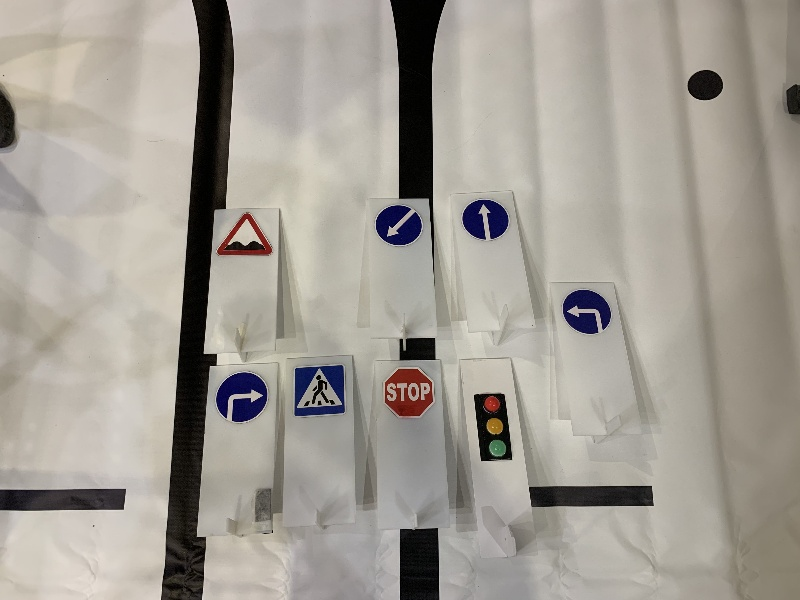Left: (563, 287, 611, 335)
Nerov: (215, 209, 276, 259)
Right: (215, 370, 268, 422)
Stop: (383, 367, 435, 416)
forw: (462, 197, 513, 242)
pesh: (293, 362, 348, 416)
prep: (374, 203, 423, 246)
